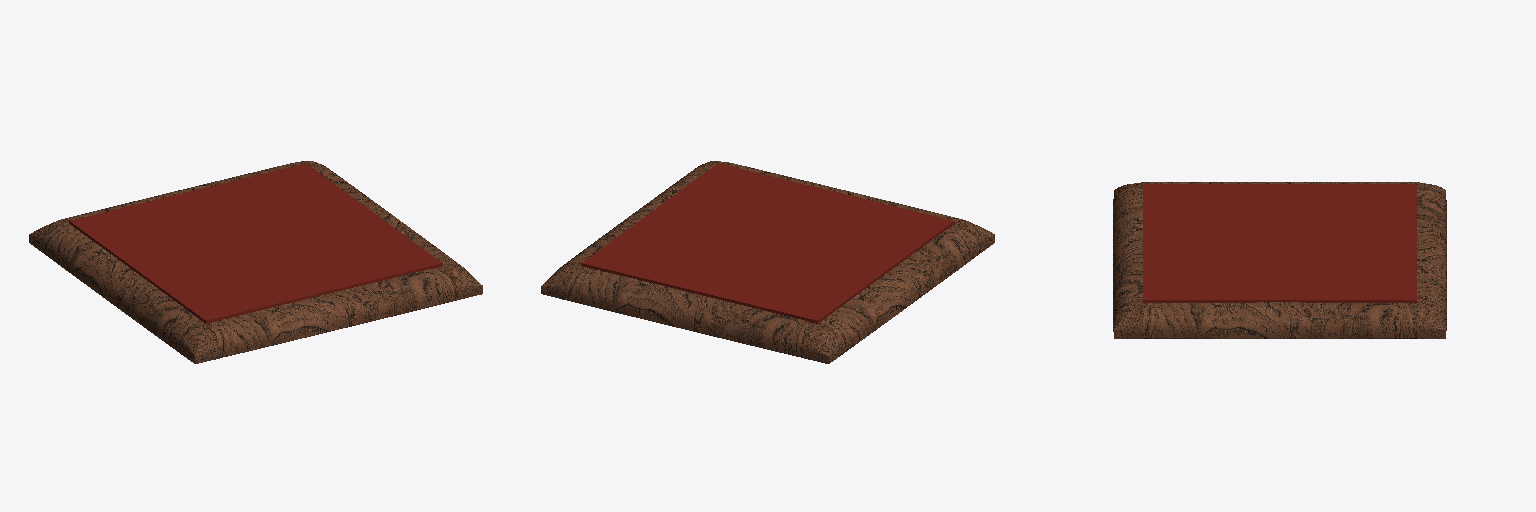
The picture shows the model from 3 angles: view 1: azimuth 30°, elevation 25°; view 2: azimuth 150°, elevation 25°; view 3: azimuth 270°, elevation 25°; orthographic projection.
Parts seen in each view (by area): view 1: s.0073, p.0109, s.0112; view 2: s.0073, p.0109, s.0112; view 3: s.0073, p.0109, s.0112.
Boxes of the visible parts, x1,y1,x2,y2 form: s.0073: [69, 163, 442, 323]; p.0109: [43, 162, 459, 357]; s.0112: [29, 161, 482, 363]; s.0073: [581, 163, 954, 323]; p.0109: [563, 162, 980, 357]; s.0112: [541, 161, 994, 363]; s.0073: [1143, 184, 1416, 302]; p.0109: [1113, 182, 1446, 338]; s.0112: [1113, 182, 1446, 338].
Bounding box in the file's own units: 0.9519 × 0.088 × 0.9519.
Materials: 2 (2 with a texture image).